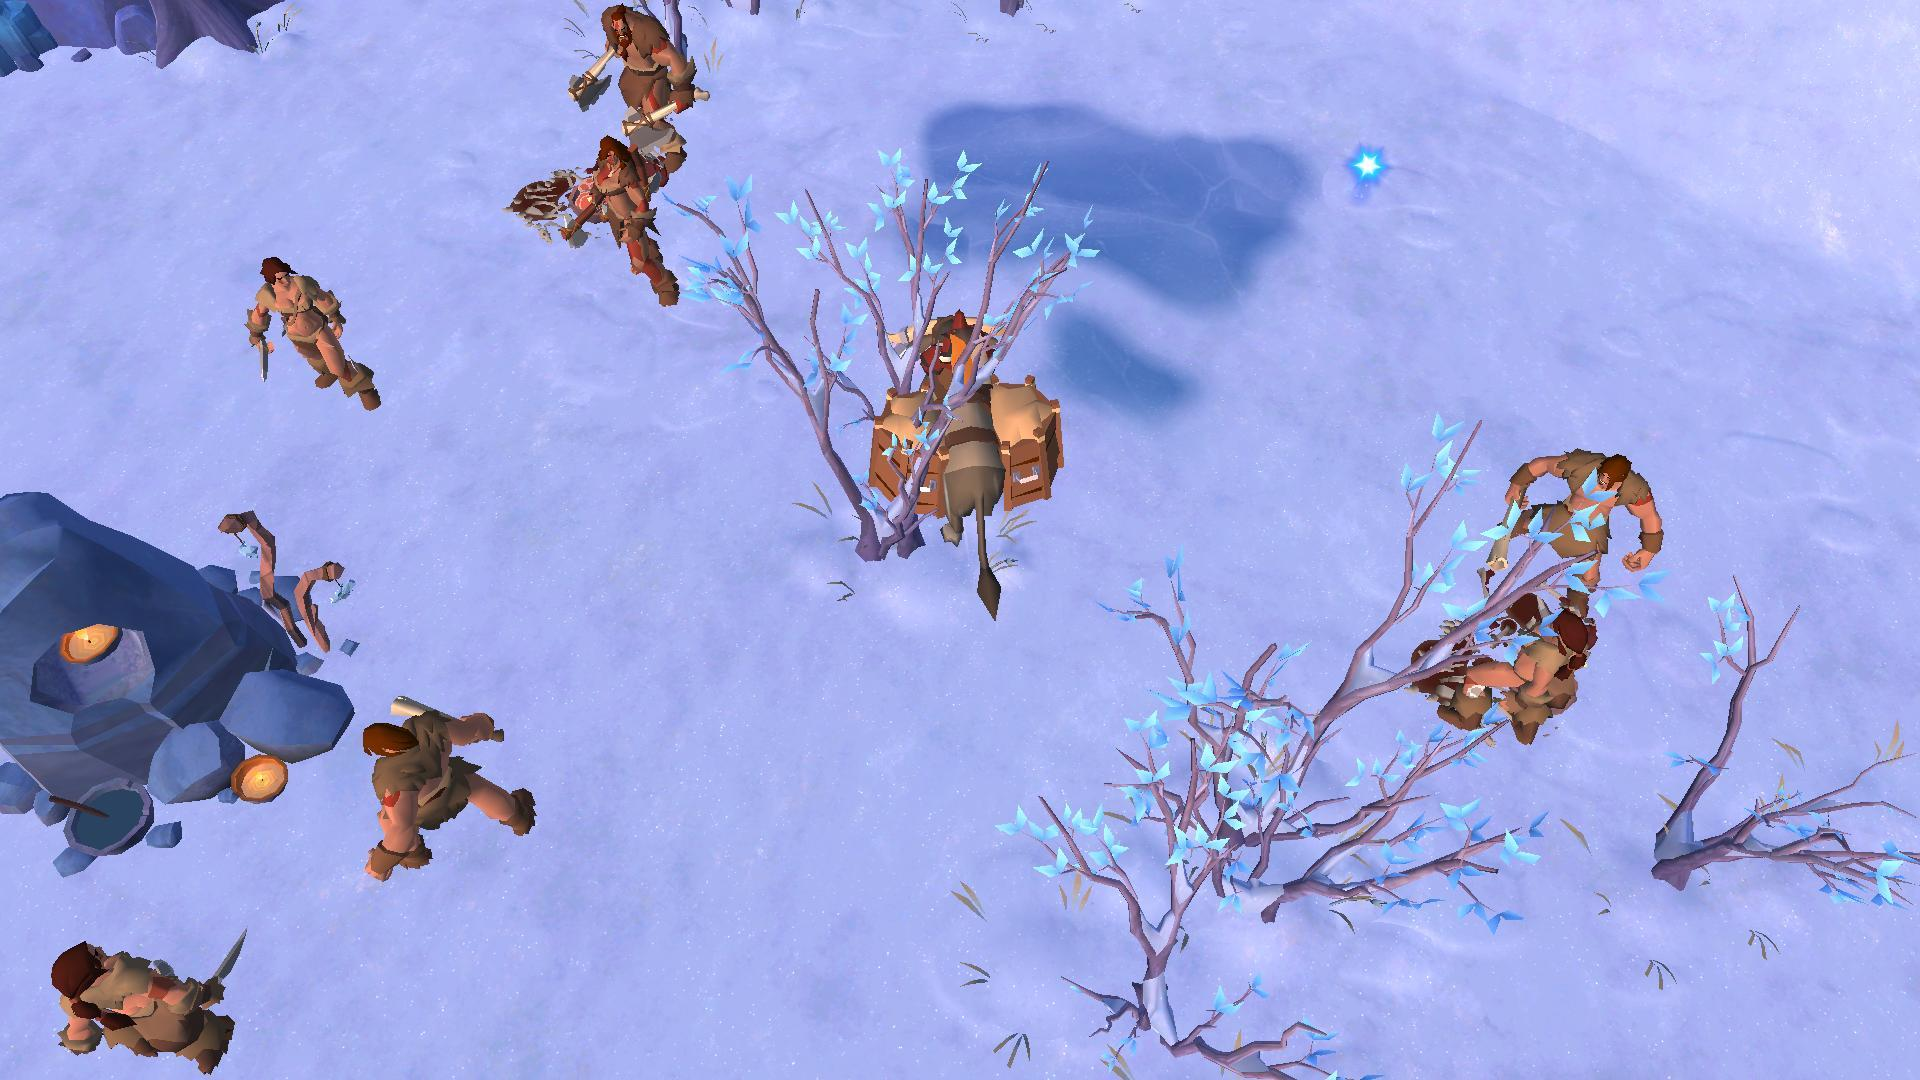enemy_factionKeeper: (351, 696, 533, 866), (1495, 435, 1663, 620), (46, 930, 251, 1072), (243, 251, 377, 417), (1445, 613, 1594, 757), (556, 127, 676, 299), (567, 3, 699, 144)
